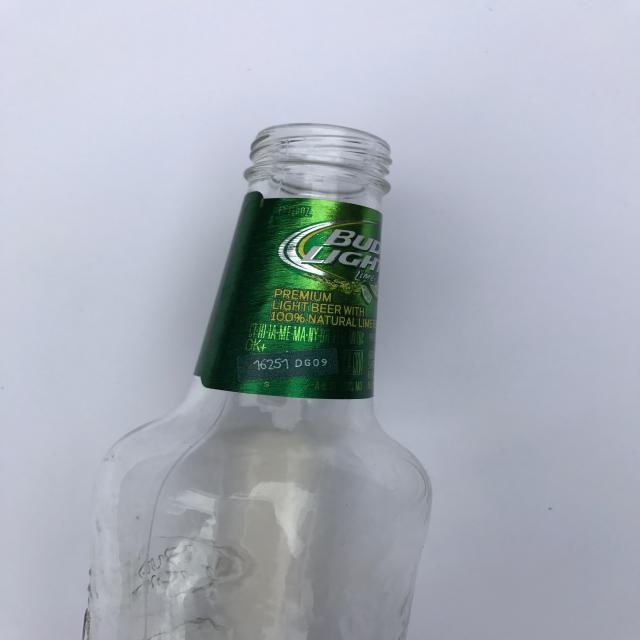glass: (76, 123, 434, 640)
